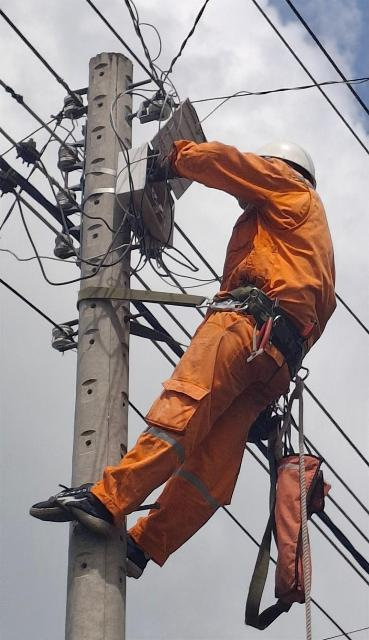gloves: (146, 143, 191, 186)
harness: (207, 273, 323, 376)
helmet: (244, 122, 335, 192)
shoes: (24, 471, 119, 539), (109, 524, 156, 578)
